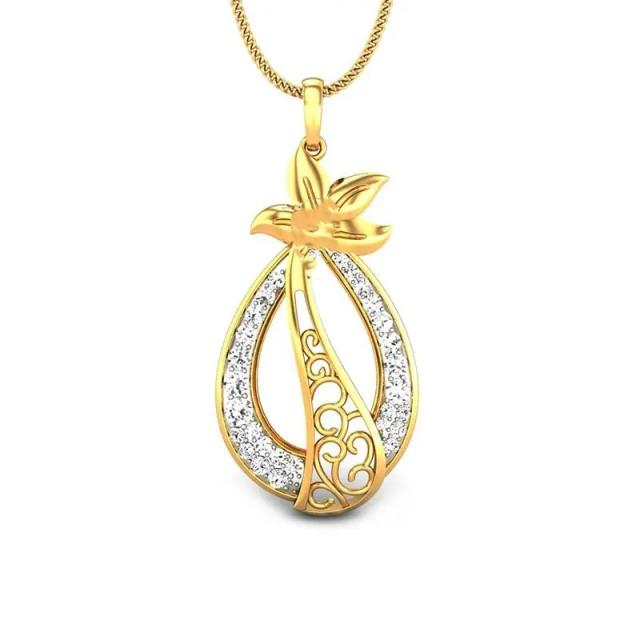missing gem: (294, 199, 338, 248)
